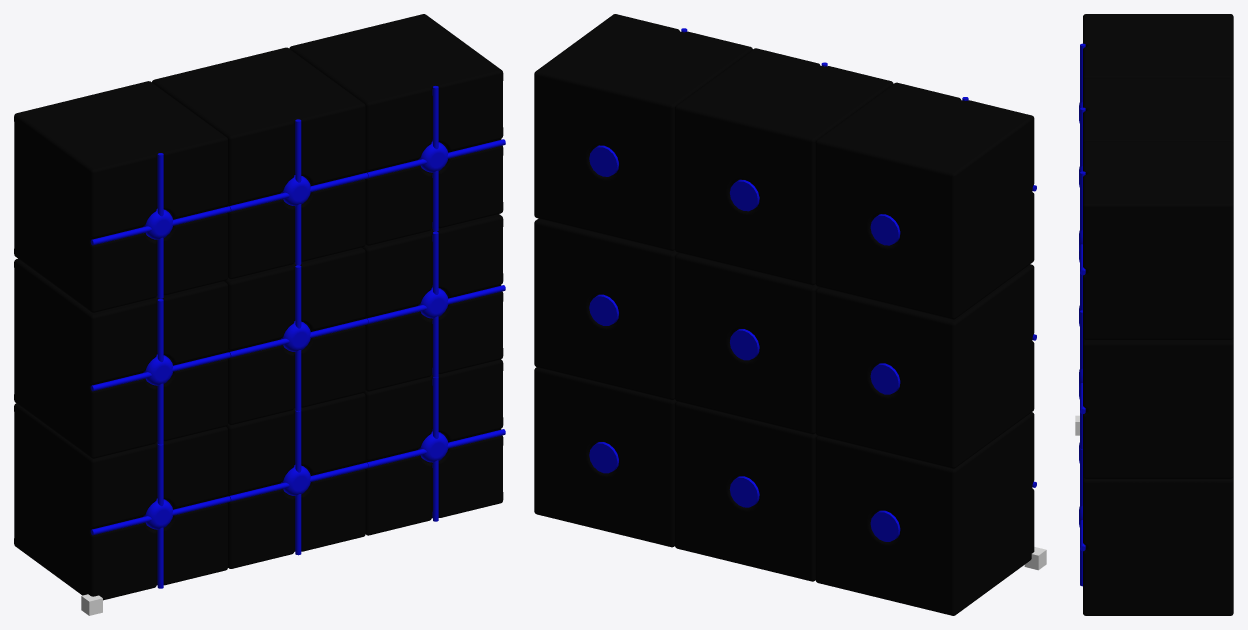
Rendered from cubos-transformed.glb.
3 views of the same model, side by side, from view 1: azimuth 30°, elevation 25°; view 2: azimuth 150°, elevation 25°; view 3: azimuth 270°, elevation 25° (orthographic). The views are drawn at different scales.
Parts seen in each view (by area): view 1: Cubo sup 1, Cubo medio 1, Cubo base 1, Cubo sup 3, Cubo sup 2, Cubo medio 3, Cubo medio 2, Cubo base 3, Cubo base 2; view 2: Cubo sup 1, Cubo medio 1, Cubo base 1, Cubo sup 2, Cubo sup 3, Cubo medio 2, Cubo medio 3, Cubo base 2, Cubo base 3; view 3: Cubo sup 3, Cubo medio 3, Cubo base 3, Cubo sup 2, Cubo sup 1.
Boxes of the visible parts, <box> form: Cubo sup 1: <box>14,81,230,312</box>; Cubo medio 1: <box>14,259,230,458</box>; Cubo base 1: <box>14,403,230,600</box>; Cubo sup 3: <box>289,14,505,245</box>; Cubo sup 2: <box>152,47,368,279</box>; Cubo medio 3: <box>362,214,505,391</box>; Cubo medio 2: <box>224,247,368,424</box>; Cubo base 3: <box>363,359,505,535</box>; Cubo base 2: <box>226,393,368,568</box>; Cubo sup 1: <box>815,82,1036,319</box>; Cubo medio 1: <box>815,264,1036,468</box>; Cubo base 1: <box>815,412,1036,615</box>; Cubo sup 2: <box>675,48,893,285</box>; Cubo sup 3: <box>534,14,752,250</box>; Cubo medio 2: <box>675,253,819,434</box>; Cubo medio 3: <box>534,218,678,399</box>; Cubo base 2: <box>675,401,817,581</box>; Cubo base 3: <box>534,367,676,547</box>; Cubo sup 3: <box>1079,141,1233,339</box>; Cubo medio 3: <box>1079,310,1233,478</box>; Cubo base 3: <box>1079,448,1233,615</box>; Cubo sup 2: <box>1079,78,1233,187</box>; Cubo sup 1: <box>1079,14,1233,123</box>.
Size of the model in its own units: 61.13 by 61.41 by 21.
